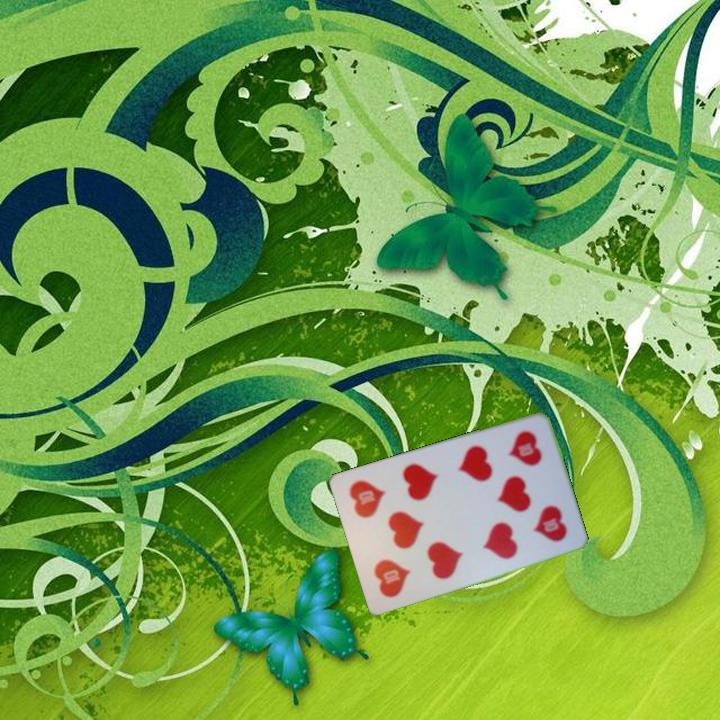h_10.png: (486, 421, 560, 500), (358, 524, 431, 604)
